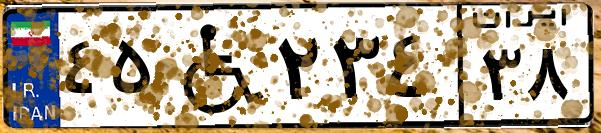2: (270, 28, 330, 110)
3: (330, 28, 385, 110), (475, 38, 525, 113)
4: (385, 28, 445, 110), (57, 26, 110, 100)
5: (110, 28, 158, 98)
8: (525, 38, 570, 115)
ژ (معلولین و جانبازان): (158, 12, 270, 120)
